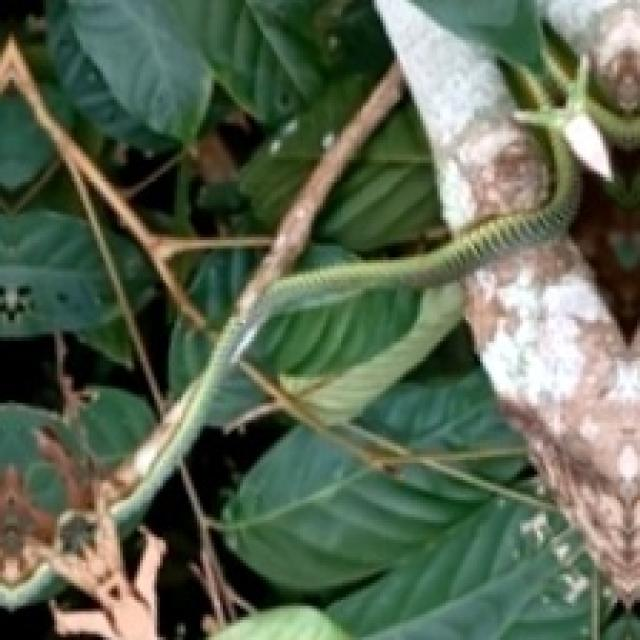paradise tree snake: (0, 0, 637, 637), (0, 37, 577, 637), (91, 197, 211, 409)
